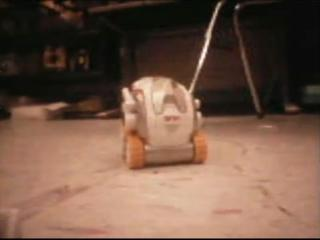cozmo: (119, 75, 208, 169)
